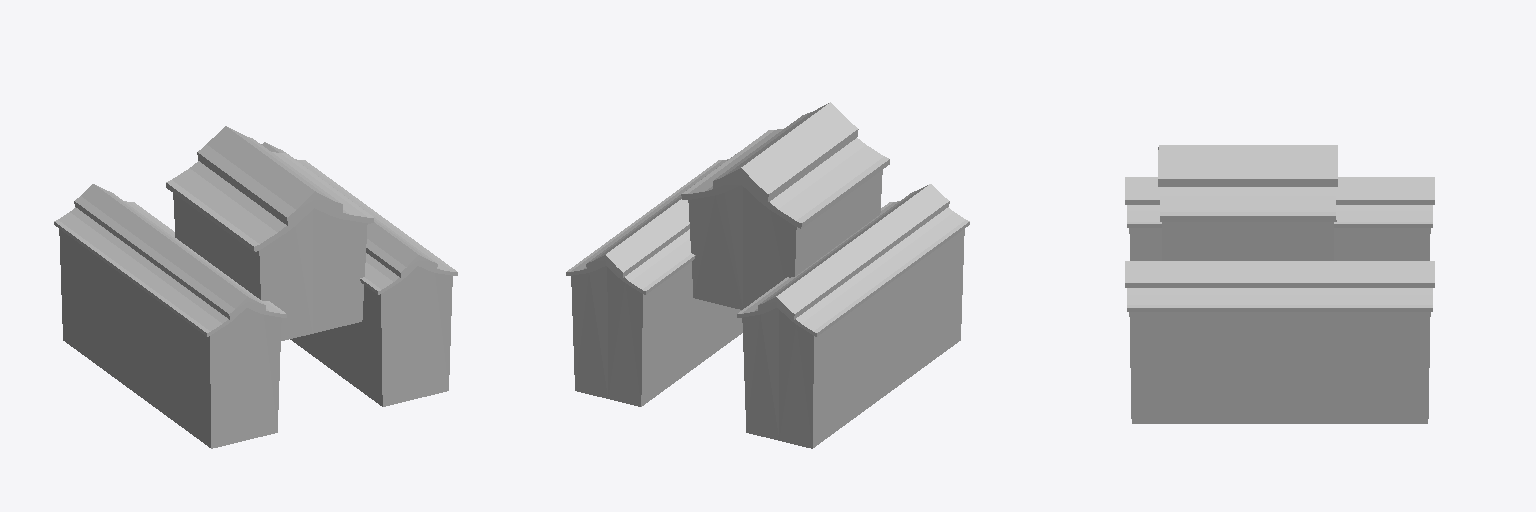
The model's file is MDL_Orphanage.obj.
3 views of the same model, side by side, from view 1: azimuth 30°, elevation 25°; view 2: azimuth 150°, elevation 25°; view 3: azimuth 270°, elevation 25° (orthographic).
Visible parts, largest first — view 1: MDL_Orphanage; view 2: MDL_Orphanage; view 3: MDL_Orphanage.
Part boxes in pixels (x1,y1,x2,y2): MDL_Orphanage: (54, 126, 457, 448); MDL_Orphanage: (566, 102, 969, 448); MDL_Orphanage: (1125, 145, 1434, 423).
Size of the model in its own units: 45.98 by 38.38 by 49.23.